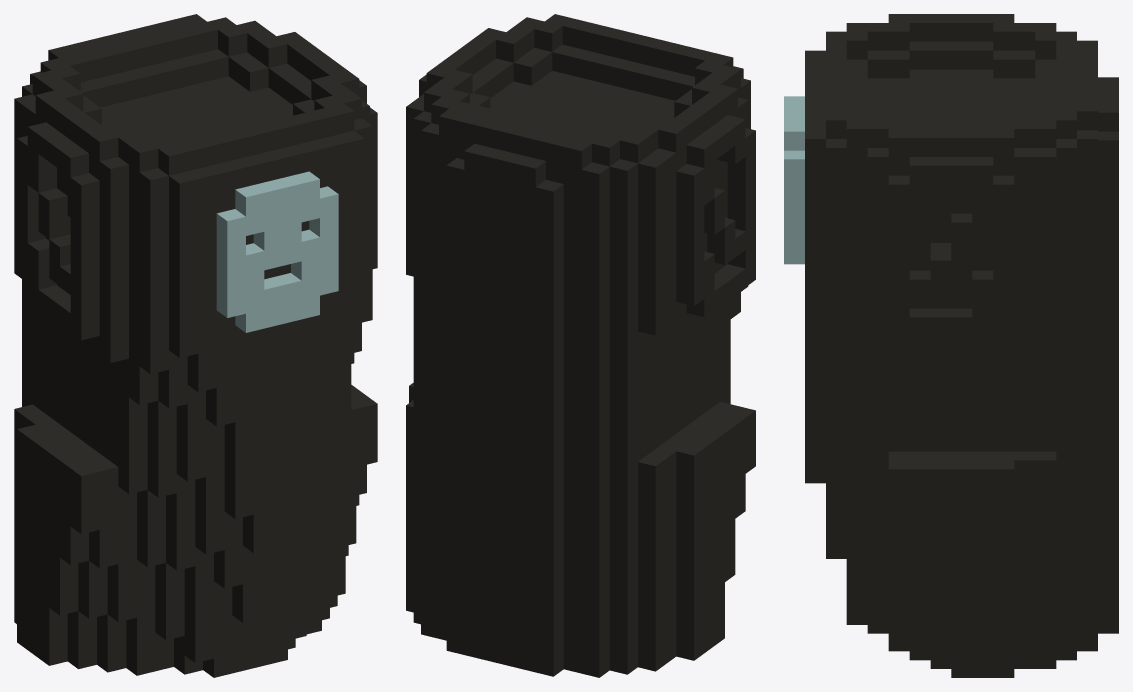
Rendered from IdolBlank.obj.
3 renders of one model, left to right at view 1: azimuth 30°, elevation 25°; view 2: azimuth 150°, elevation 25°; view 3: azimuth 270°, elevation 25°, orthographic. The views are drawn at different scales.
Parts seen in each view (by area): view 1: IdolBlank; view 2: IdolBlank; view 3: IdolBlank.
Boxes of the visible parts, x1=… form: IdolBlank: x1=14, y1=14, x2=377, y2=677; IdolBlank: x1=406, y1=14, x2=755, y2=677; IdolBlank: x1=784, y1=14, x2=1118, y2=677.
Bounding box in the file's own units: 16 × 28 × 16.
1 material, 1 textured.
